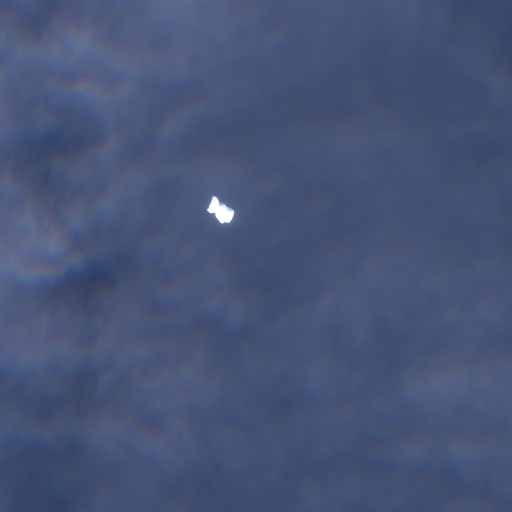Iceberg: (206, 196, 234, 223)
